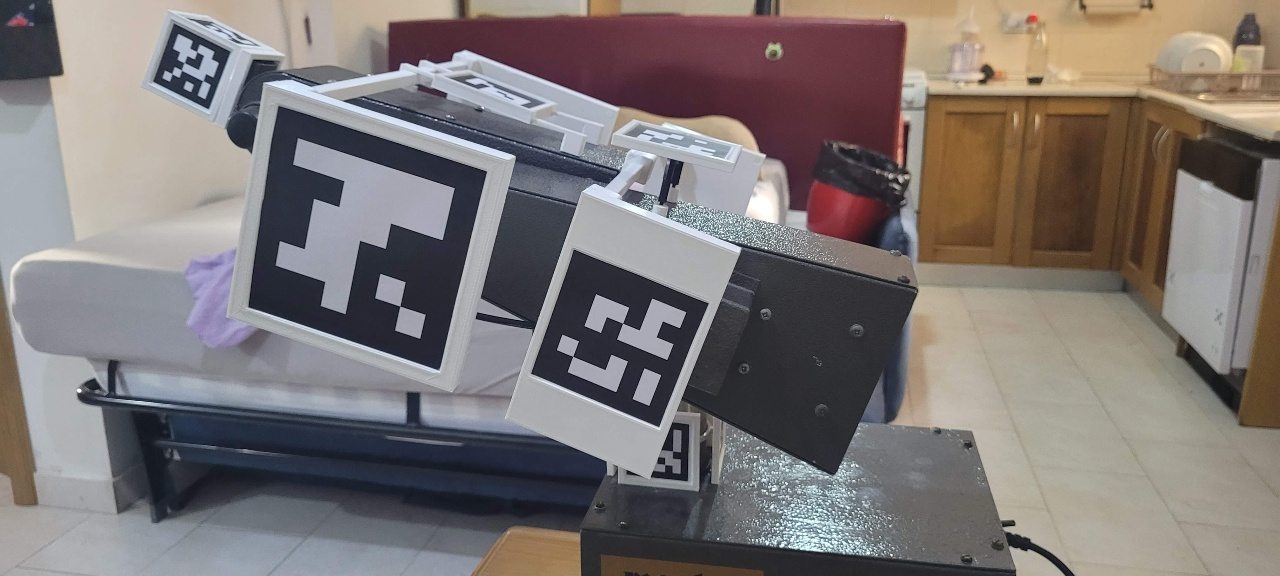Robot: (141, 10, 920, 495)
